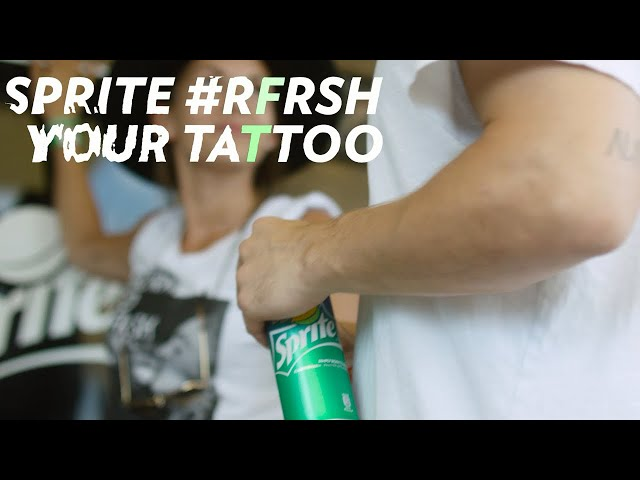sprite: (275, 310, 334, 368), (277, 310, 334, 368)
